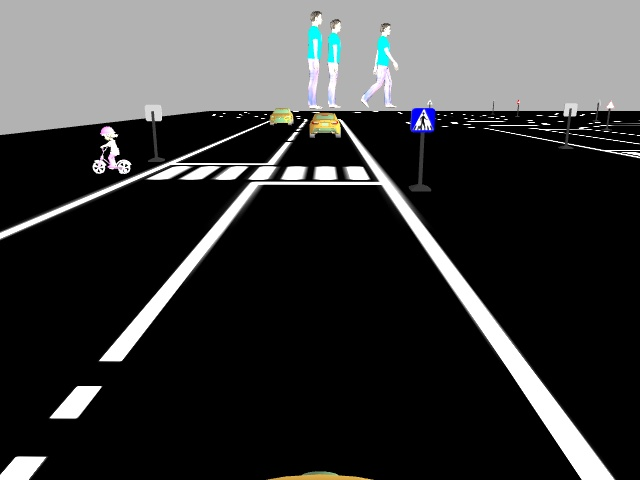Crosswalk: (410, 106, 436, 132)
Pedestrian: (91, 125, 134, 176)
